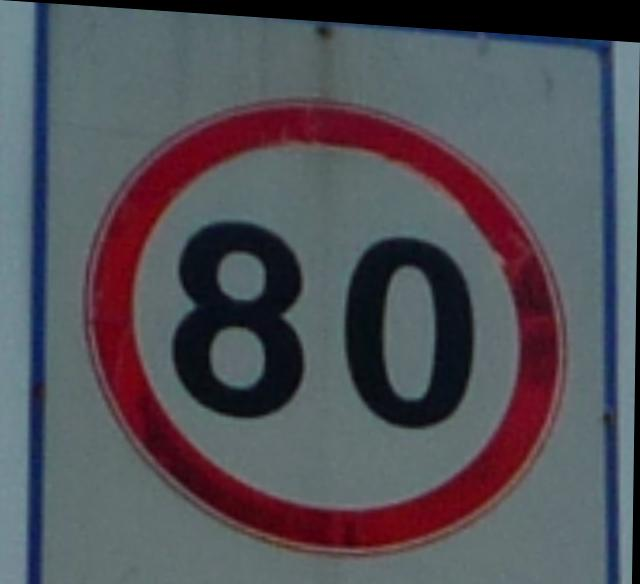limit80: (74, 67, 581, 578)
